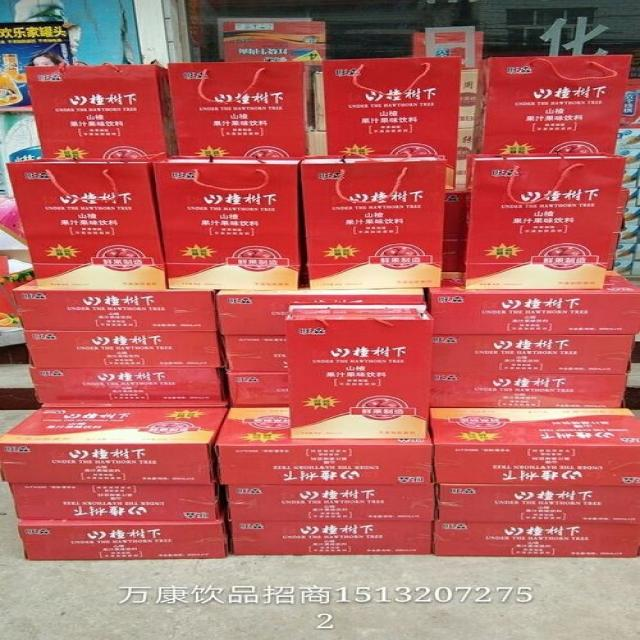box: (466, 153, 628, 290), (148, 156, 307, 292), (8, 157, 169, 291), (283, 301, 435, 439), (300, 155, 445, 288), (0, 404, 230, 486), (324, 56, 463, 191), (211, 407, 435, 486), (426, 408, 640, 487), (475, 54, 635, 154), (27, 65, 179, 160), (431, 270, 640, 337), (170, 61, 307, 159), (19, 510, 228, 562), (13, 280, 221, 330), (215, 288, 424, 335), (435, 483, 640, 526), (23, 329, 225, 372), (434, 335, 636, 375), (229, 484, 436, 521), (8, 485, 218, 521), (229, 520, 434, 556), (430, 372, 625, 409), (434, 523, 640, 558), (28, 370, 224, 405), (221, 334, 285, 375), (225, 372, 291, 406)
